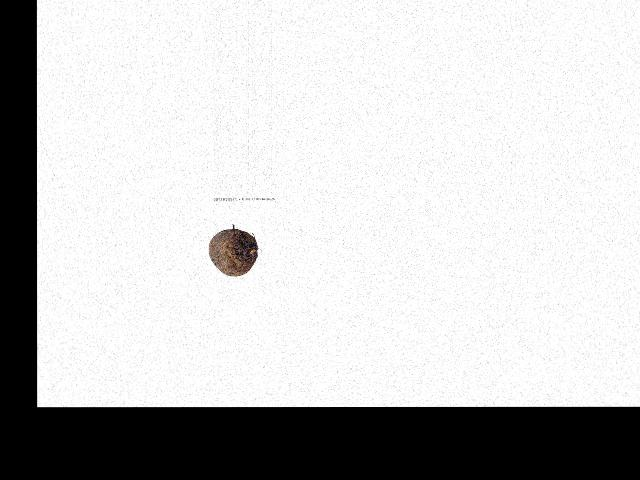beet: (207, 229, 256, 275)
